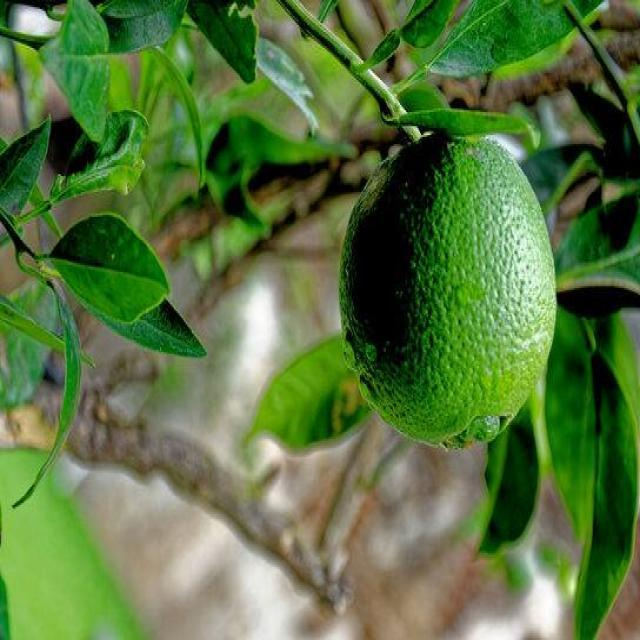Jeruk Belum Matang: (339, 134, 559, 454)
